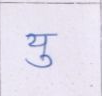u_matra: (26, 55, 54, 69)
